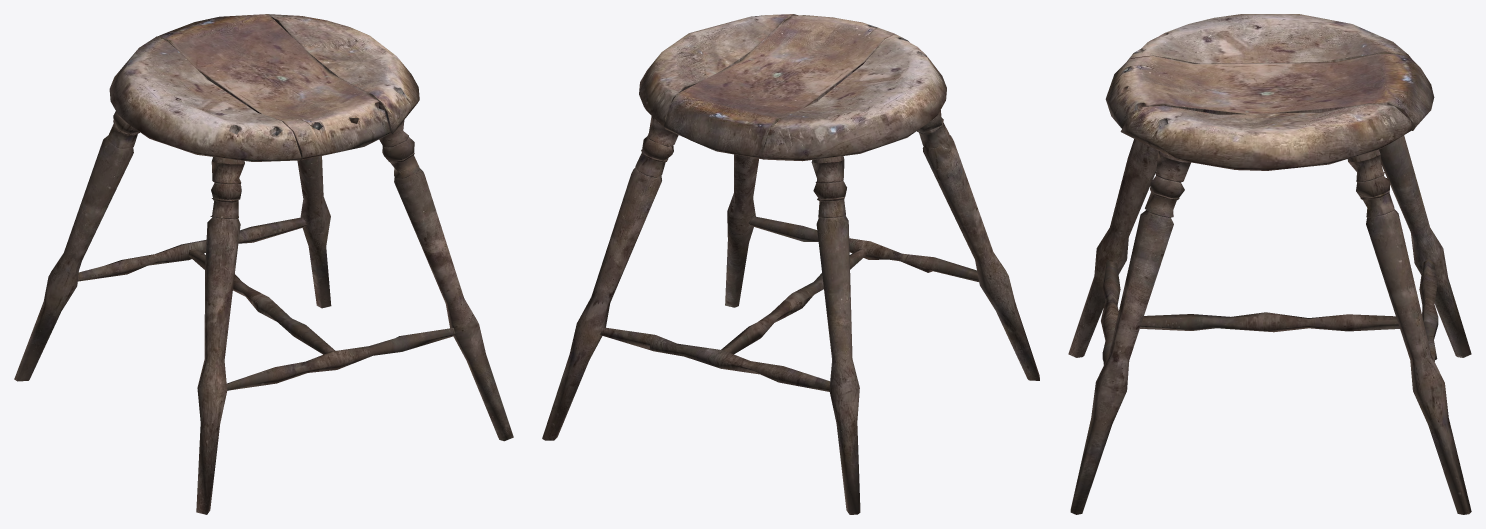
File: wooden_stool_01.glb
The picture shows the model from 3 angles, left to right: view 1: azimuth 30°, elevation 25°; view 2: azimuth 150°, elevation 25°; view 3: azimuth 270°, elevation 25°; orthographic projection. The views are drawn at different scales.
Parts seen in each view (by area): view 1: wooden_stool_01; view 2: wooden_stool_01; view 3: wooden_stool_01.
Part boxes in pixels (x1,y1,x2,y2): wooden_stool_01: (14, 14, 513, 514); wooden_stool_01: (542, 14, 1039, 514); wooden_stool_01: (1068, 14, 1471, 514).
Bounding box in the file's own units: 0.4242 × 0.4365 × 0.4417.
Materials: 1 (1 with a texture image).
